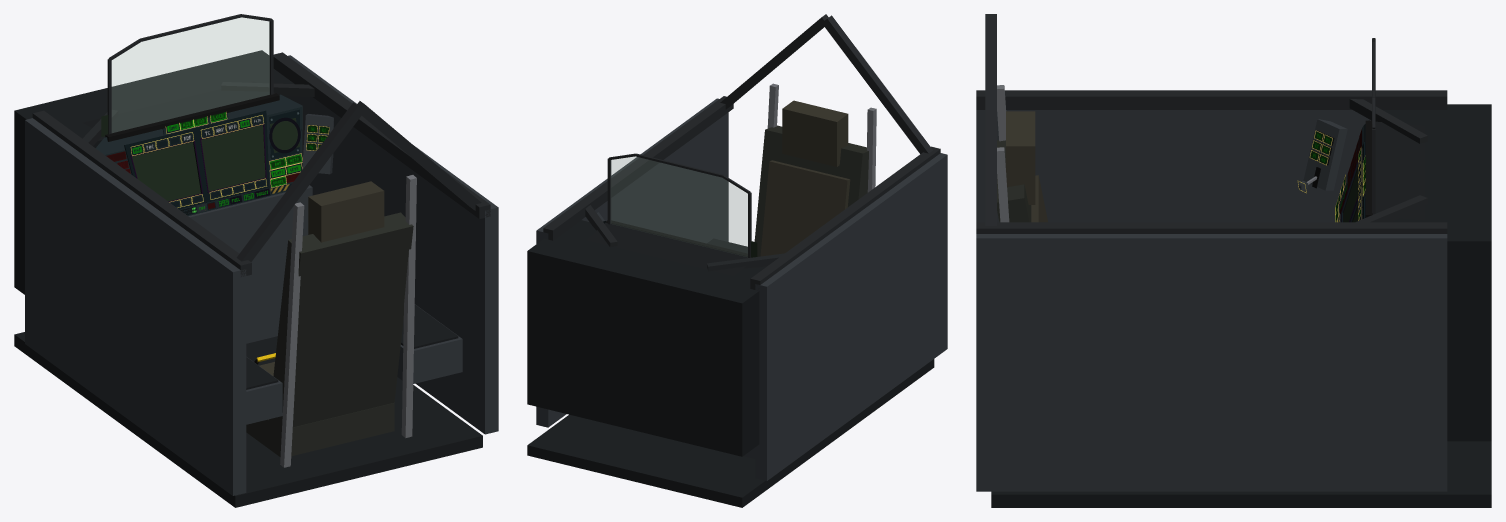
The model's file is cockpit_modern.glb.
The picture shows the model from 3 angles, left to right: view 1: azimuth 30°, elevation 25°; view 2: azimuth 150°, elevation 25°; view 3: azimuth 270°, elevation 25°; orthographic projection. The views are drawn at different scales.
Parts seen in each view (by area): view 1: panel_grey_75, seat_95, panel_grey_79, dark_83, hud_glass_69, dark_73, panel_grey_74, seat_93, cushion_97, frame_76, frame_80, screen_right_64 (+16 smaller); view 2: dark_73, panel_grey_75, dark_83, panel_grey_79, hud_glass_69, cushion_96, cushion_97, frame_80, seat_95, dark_71, frame_76, frame_90 (+5 smaller); view 3: panel_grey_79, panel_grey_75, dark_73, dark_83, frame_76, frame_80, dark_71, frame_92, cushion_97, panel_grey_541, frame_89, seat_95 (+3 smaller).
Boxes of the visible parts, left/top/right/bottom form: panel_grey_75: left=25, top=118, right=246, bottom=495; seat_95: left=268, top=212, right=413, bottom=429; panel_grey_79: left=288, top=55, right=498, bottom=434; dark_83: left=14, top=332, right=482, bottom=507; hud_glass_69: left=112, top=18, right=269, bottom=132; dark_73: left=14, top=50, right=309, bottom=294; panel_grey_74: left=188, top=185, right=312, bottom=343; seat_93: left=246, top=402, right=394, bottom=456; cushion_97: left=308, top=181, right=384, bottom=242; frame_76: left=32, top=110, right=251, bottom=276; frame_80: left=273, top=52, right=490, bottom=218; screen_right_64: left=201, top=124, right=265, bottom=191; dark_73: left=527, top=220, right=766, bottom=456; panel_grey_75: left=755, top=153, right=947, bottom=480; dark_83: left=527, top=359, right=934, bottom=507; panel_grey_79: left=536, top=98, right=728, bottom=427; hud_glass_69: left=611, top=157, right=747, bottom=256; cushion_96: left=760, top=160, right=850, bottom=256; cushion_97: left=782, top=100, right=848, bottom=166; frame_80: left=543, top=96, right=733, bottom=240; seat_95: left=754, top=125, right=868, bottom=256; dark_71: left=586, top=222, right=747, bottom=276; frame_76: left=750, top=146, right=940, bottom=289; frame_90: left=822, top=15, right=932, bottom=153; panel_grey_79: left=976, top=234, right=1447, bottom=491; panel_grey_75: left=976, top=110, right=1370, bottom=222; dark_73: left=1383, top=104, right=1491, bottom=441; dark_83: left=991, top=441, right=1491, bottom=507; frame_76: left=976, top=90, right=1447, bottom=109; frame_80: left=976, top=222, right=1447, bottom=233; dark_71: left=1373, top=121, right=1424, bottom=220; frame_92: left=985, top=17, right=996, bottom=225; cushion_97: left=1006, top=111, right=1035, bottom=204; panel_grey_541: left=1303, top=119, right=1347, bottom=190; frame_89: left=1349, top=99, right=1427, bottom=143; seat_95: left=997, top=140, right=1031, bottom=222.
Size of the model in its own units: 1.18 by 1.59 by 1.75.
30 materials, 14 textured.
